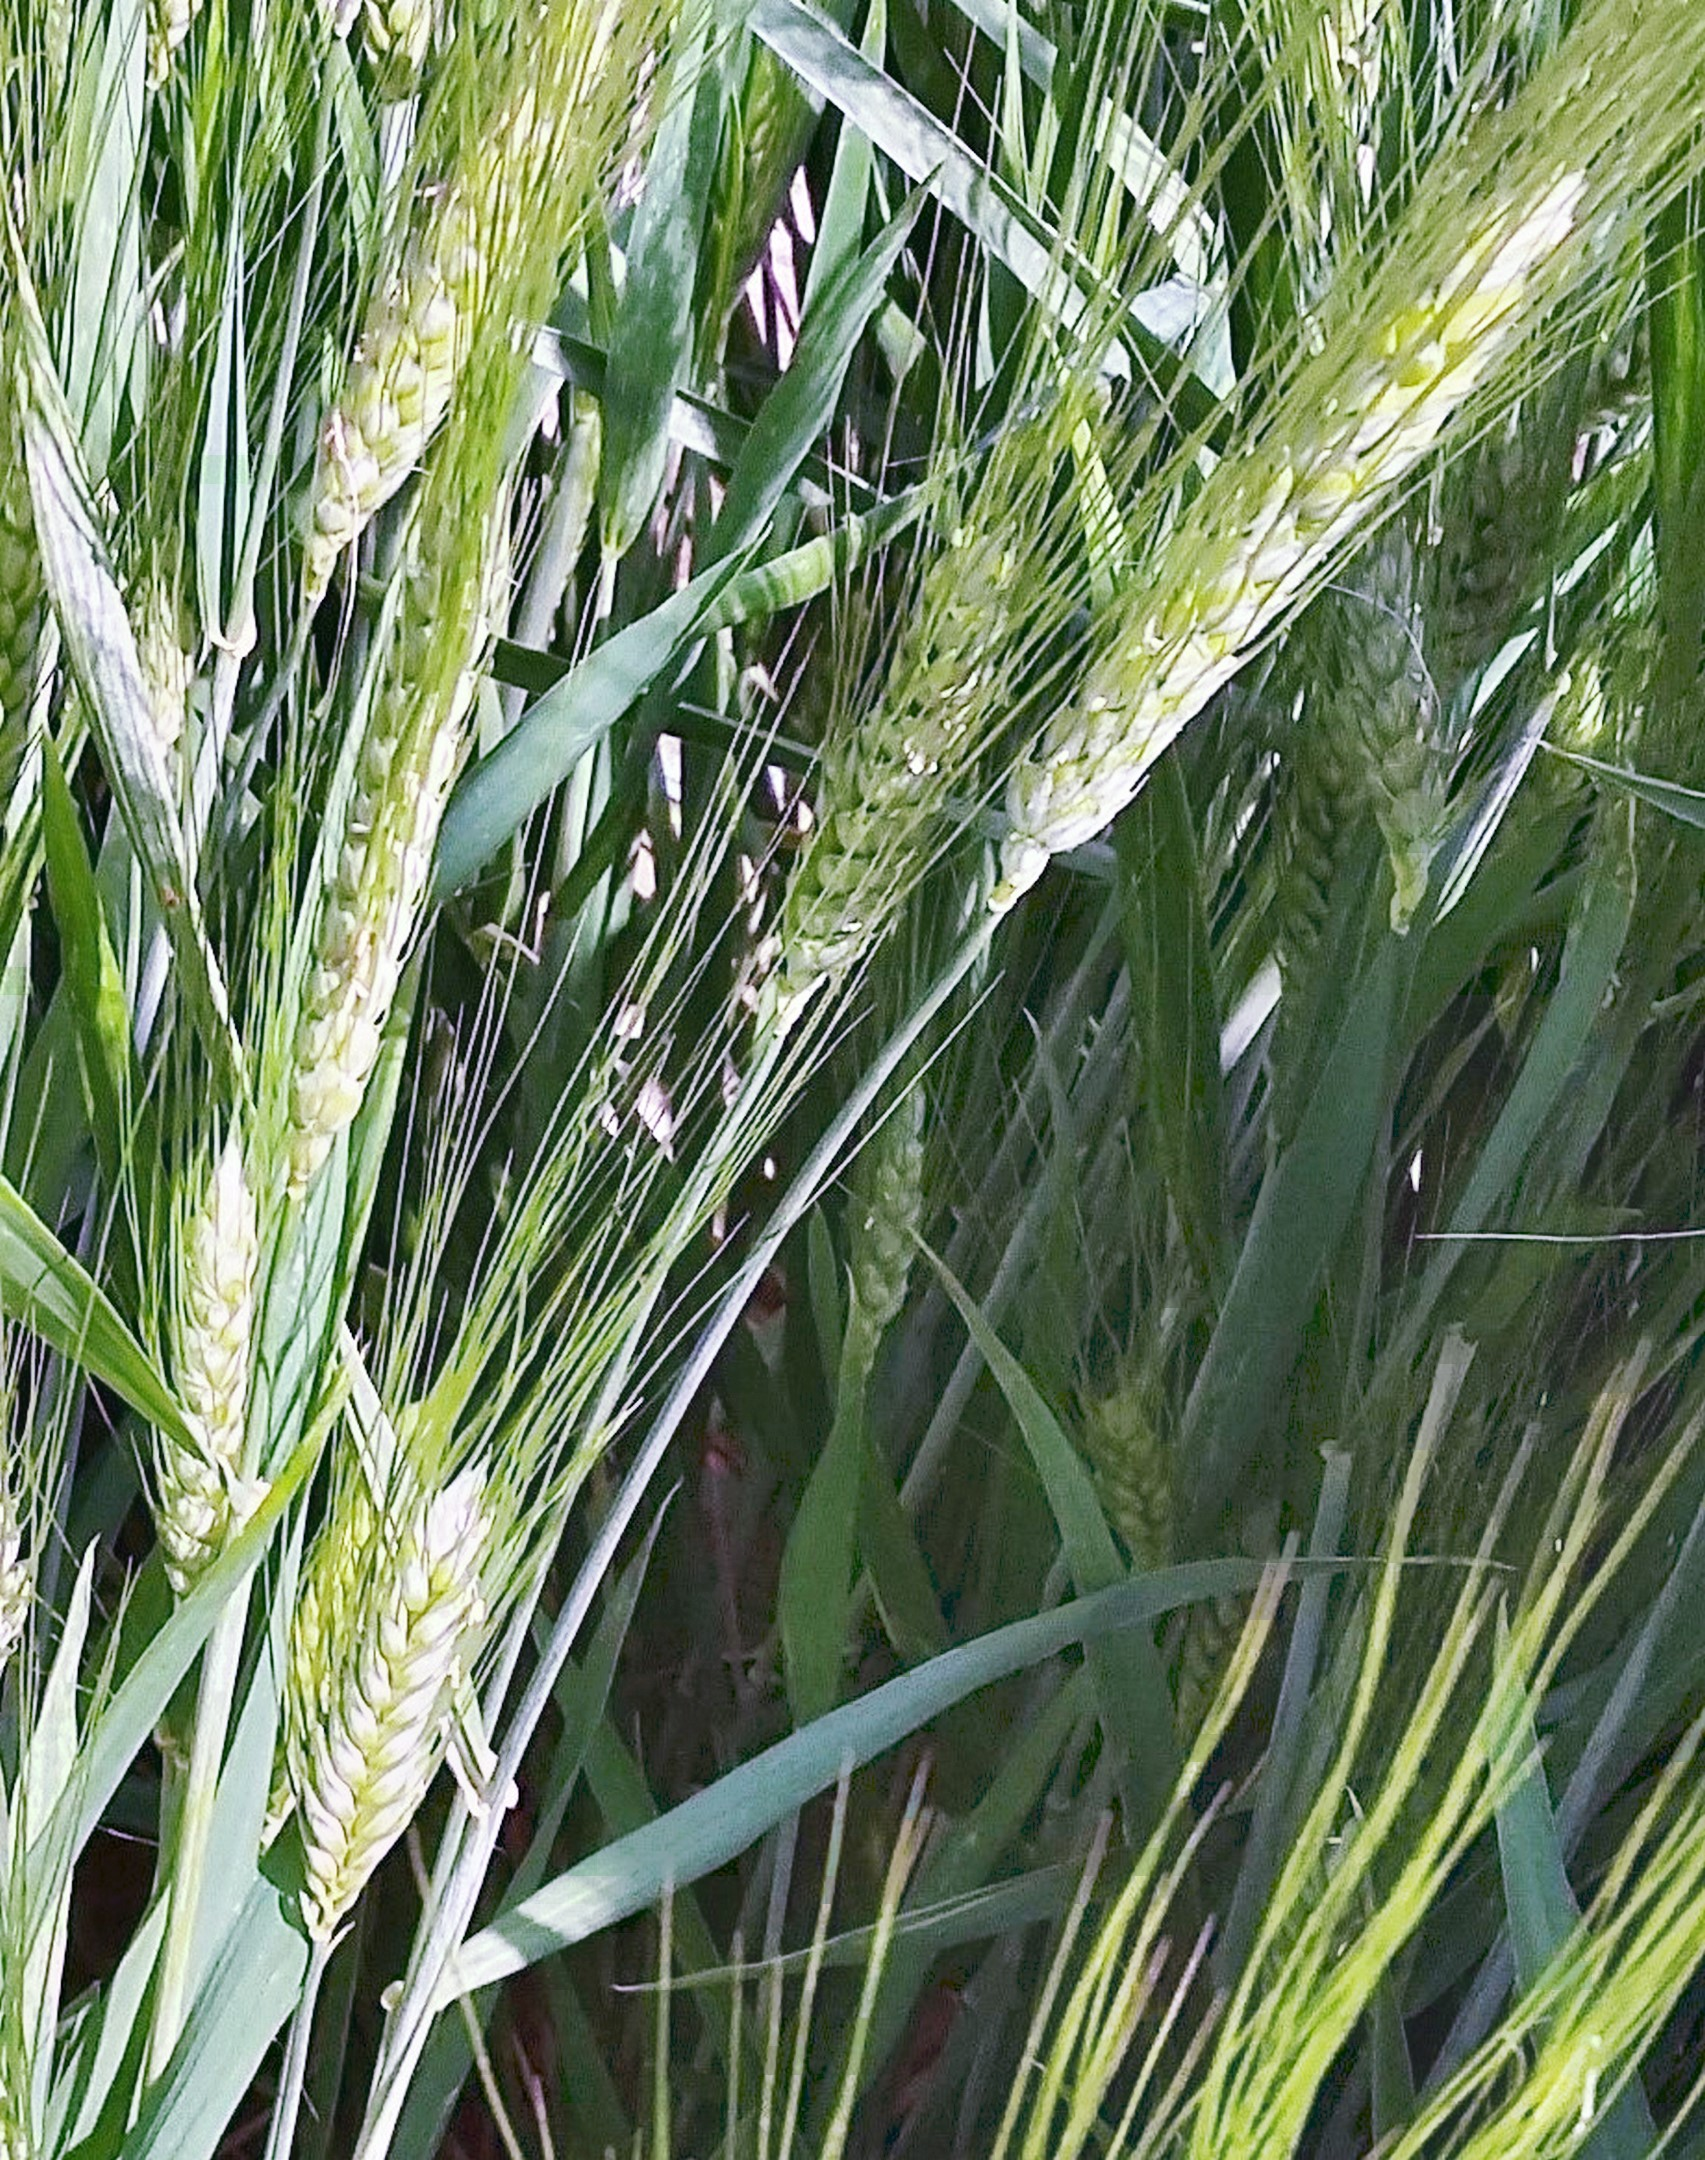Healthy Wheat: (1024, 103, 1637, 856), (295, 1469, 531, 1960)
